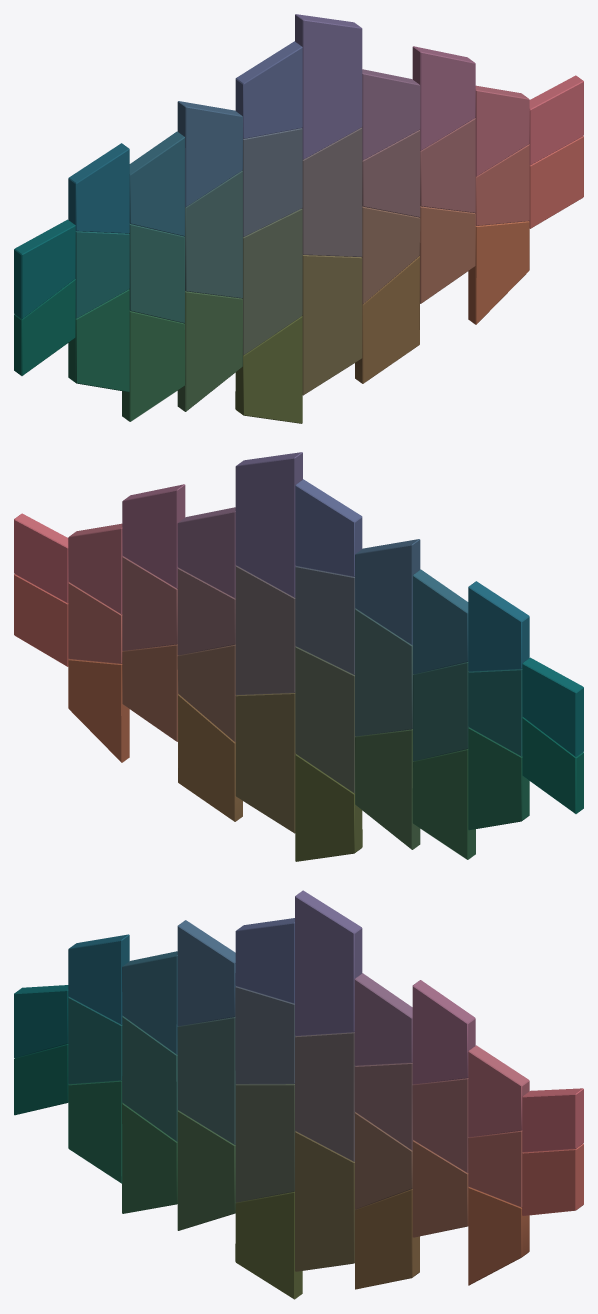
The model's file is WarpGate_1.fbx.
3 renders of one model, top to bottom at view 1: azimuth 30°, elevation 25°; view 2: azimuth 150°, elevation 25°; view 3: azimuth 330°, elevation 25°, orthographic.
Parts seen in each view (by area): view 1: WarpGate_1; view 2: WarpGate_1; view 3: WarpGate_1.
Part boxes in pixels (x1=…): WarpGate_1: x1=14, y1=14, x2=583, y2=423; WarpGate_1: x1=14, y1=452, x2=583, y2=861; WarpGate_1: x1=14, y1=890, x2=583, y2=1299.
Bounding box in the file's own units: 89.01 × 61.09 × 2.27.
